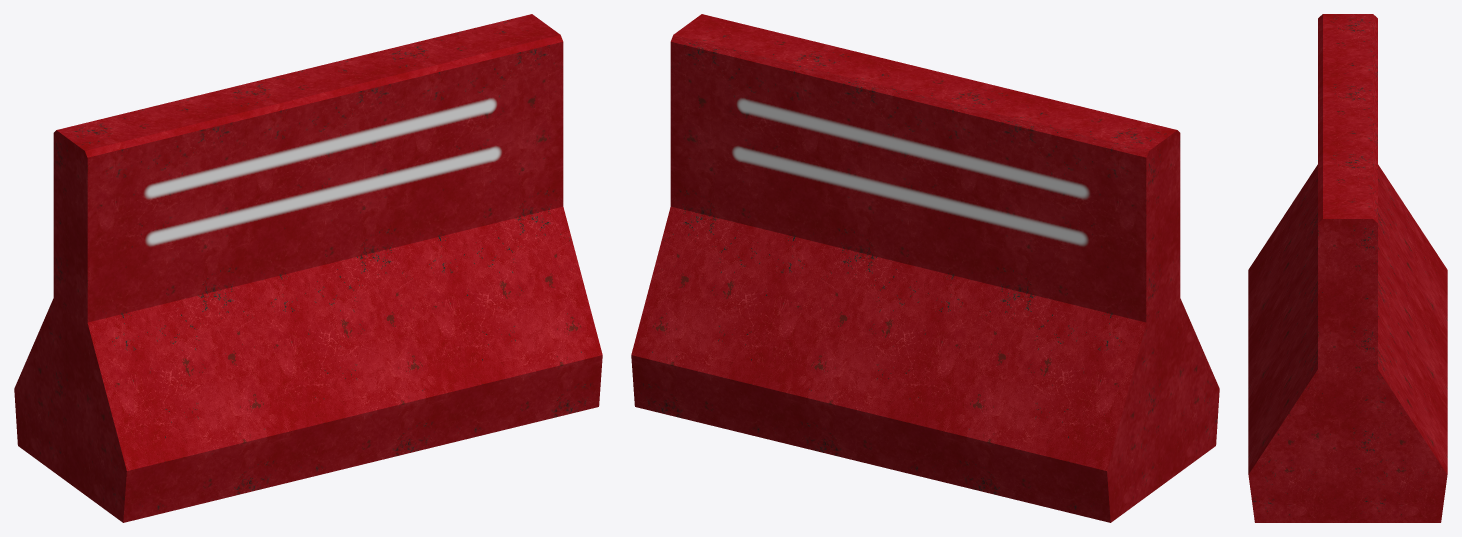
File: aws_StonePier_01_visual.DAE
3 views of the same model, side by side, from view 1: azimuth 30°, elevation 25°; view 2: azimuth 150°, elevation 25°; view 3: azimuth 270°, elevation 25° (orthographic). The views are drawn at different scales.
Parts seen in each view (by area): view 1: aws_StonePier_01_visual; view 2: aws_StonePier_01_visual; view 3: aws_StonePier_01_visual.
Part boxes in pixels (box(x1,y1,x2,y2)): aws_StonePier_01_visual: box(14, 14, 602, 522); aws_StonePier_01_visual: box(631, 14, 1219, 522); aws_StonePier_01_visual: box(1248, 14, 1447, 522).
Bounding box in the file's own units: 236 × 96.58 × 163.
1 material, 1 textured.
